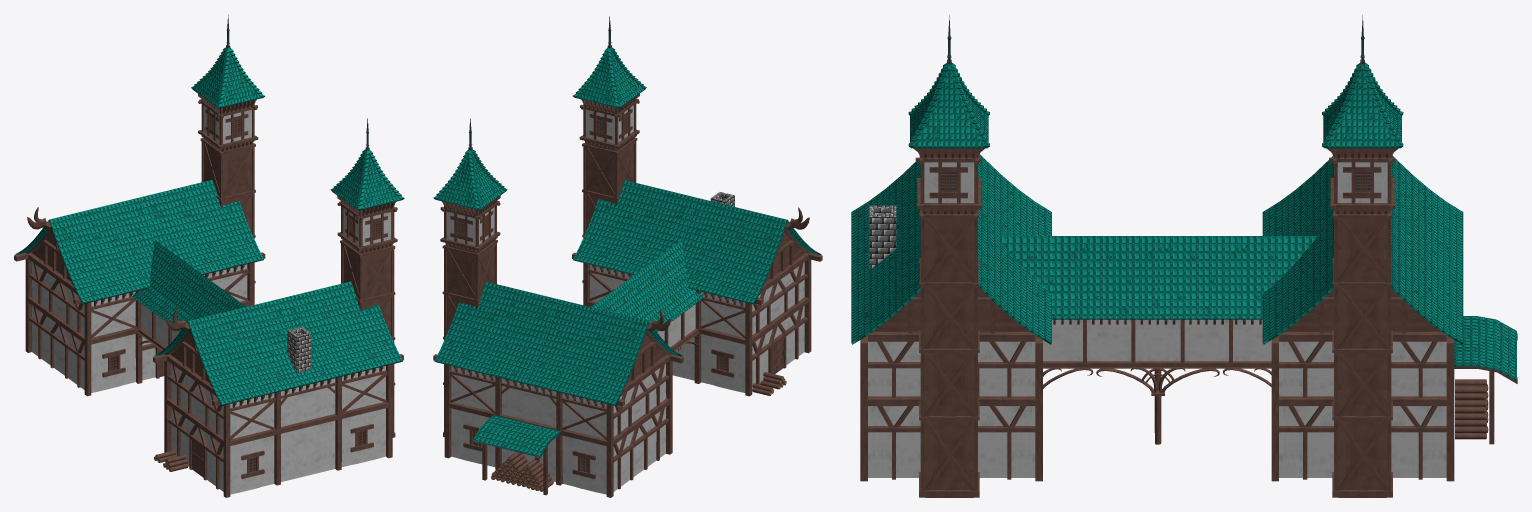
File: maison9.glb
3 views of the same model, side by side, from view 1: azimuth 30°, elevation 25°; view 2: azimuth 150°, elevation 25°; view 3: azimuth 270°, elevation 25° (orthographic). The views are drawn at different scales.
Visible parts, largest first — view 1: Complex1; view 2: Complex1; view 3: Complex1.
Boxes of the visible parts, x1,y1,x2,y2 form: Complex1: (14, 15, 404, 497); Complex1: (433, 16, 822, 497); Complex1: (851, 15, 1517, 497).
Size of the model in its own units: 6.64 by 9 by 11.52.
Materials: 1 (1 with a texture image).
